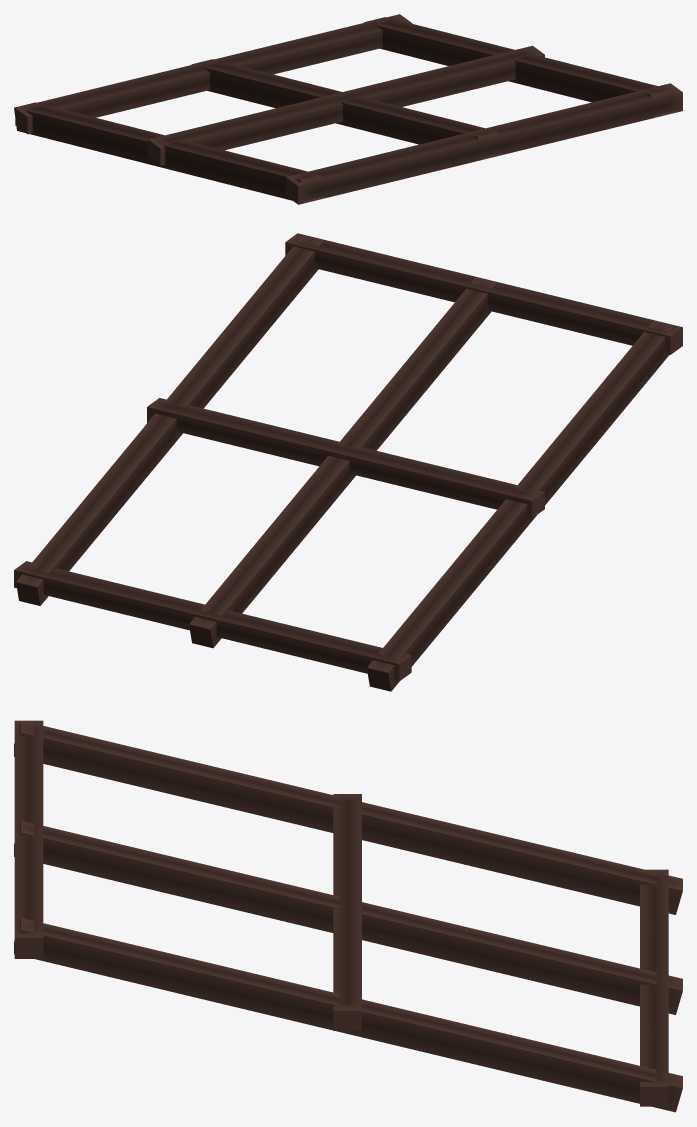
File: roof_beam_v3d001.fbx
3 views of the same model, one above another, from view 1: azimuth 30°, elevation 25°; view 2: azimuth 150°, elevation 25°; view 3: azimuth 270°, elevation 25° (orthographic). The views are drawn at different scales.
Visible parts, largest first — view 1: roof_beam_v3d001; view 2: roof_beam_v3d001; view 3: roof_beam_v3d001.
Part boxes in pixels (x1,y1,x2,y2): roof_beam_v3d001: [14, 14, 682, 204]; roof_beam_v3d001: [14, 233, 682, 691]; roof_beam_v3d001: [14, 720, 682, 1112].
Size of the model in its own units: 484 by 190 by 631.
